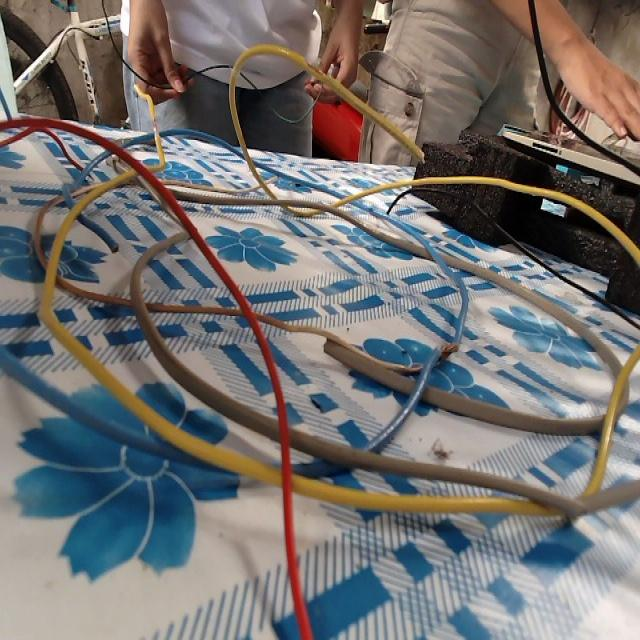-: (434, 339, 461, 365), (150, 111, 162, 140), (106, 238, 121, 254)
